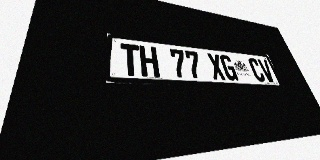7: (168, 49, 189, 79), (183, 50, 204, 79)
C: (247, 58, 267, 82)
G: (219, 54, 239, 81)
H: (139, 45, 160, 77)
T: (120, 43, 141, 76)
V: (257, 59, 276, 82)
X: (206, 53, 227, 80)
